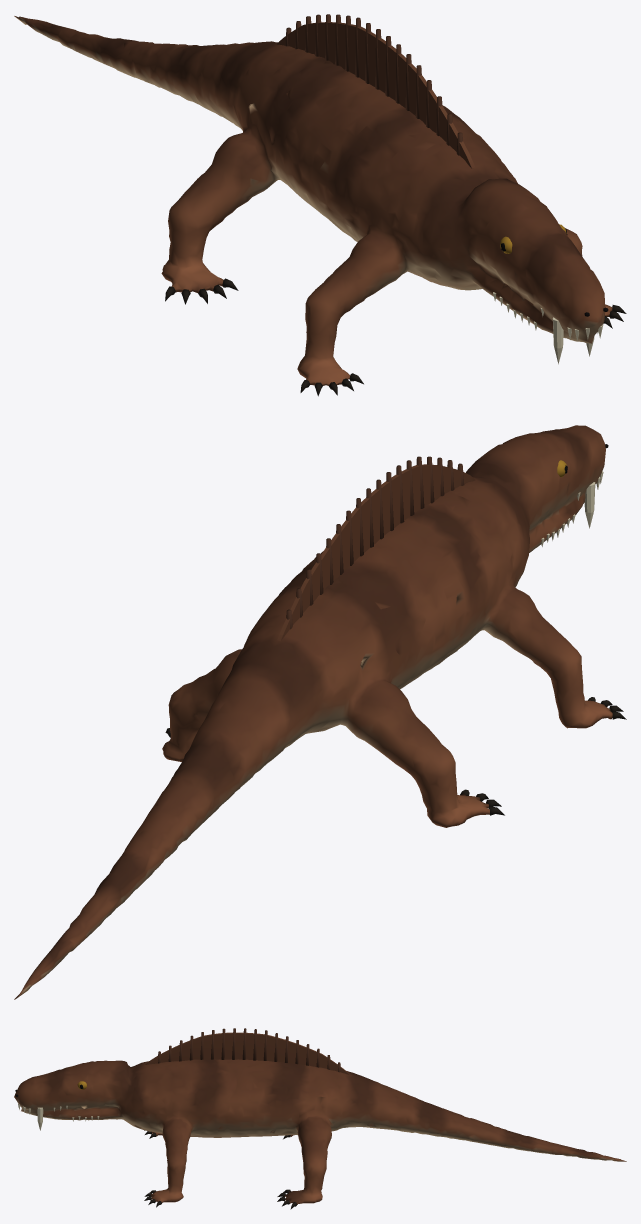
Rendered from Sphenacodon.fbx.
The picture shows the model from 3 angles, top to bottom: view 1: azimuth 30°, elevation 25°; view 2: azimuth 150°, elevation 25°; view 3: azimuth 270°, elevation 25°; orthographic projection. The views are drawn at different scales.
Visible parts, largest first — view 1: Sphenacodon; view 2: Sphenacodon; view 3: Sphenacodon.
Boxes of the visible parts, bbox=[...] form: Sphenacodon: bbox=[14, 14, 626, 396]; Sphenacodon: bbox=[14, 425, 626, 999]; Sphenacodon: bbox=[14, 1028, 626, 1209].
Bounding box in the file's own units: 0.6562 × 0.4888 × 1.95.
